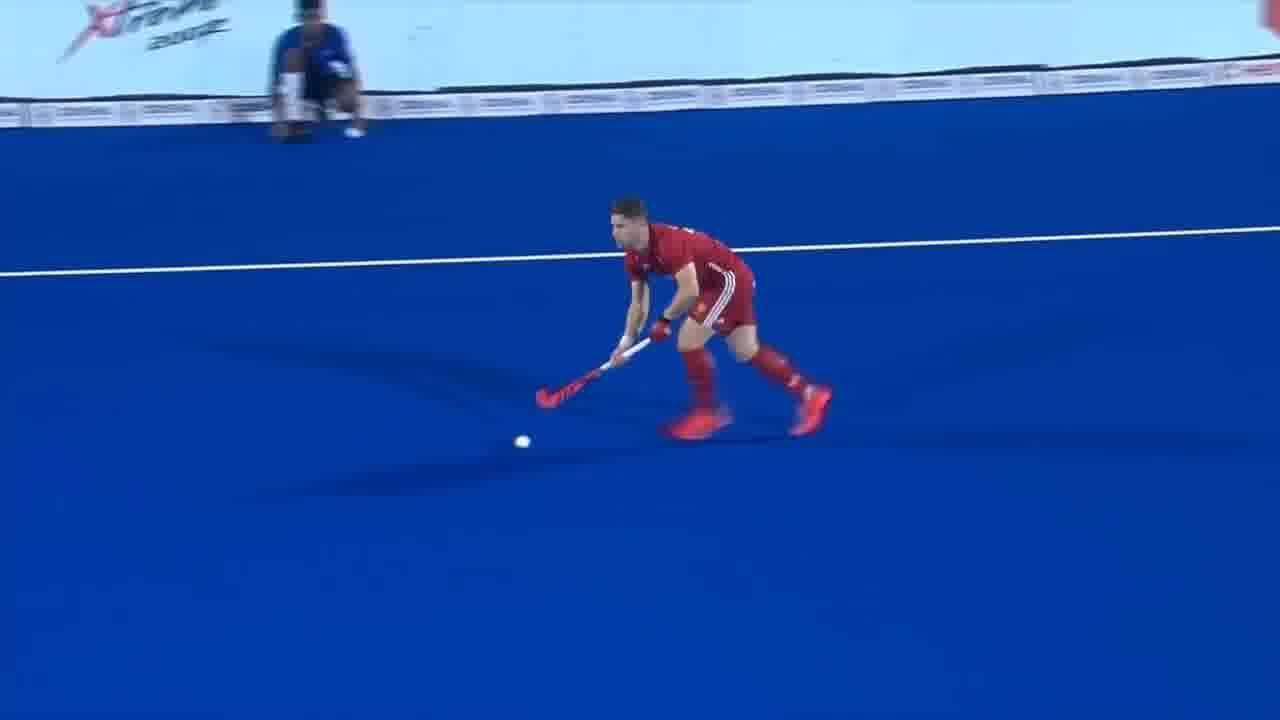ball: (512, 428, 543, 455)
